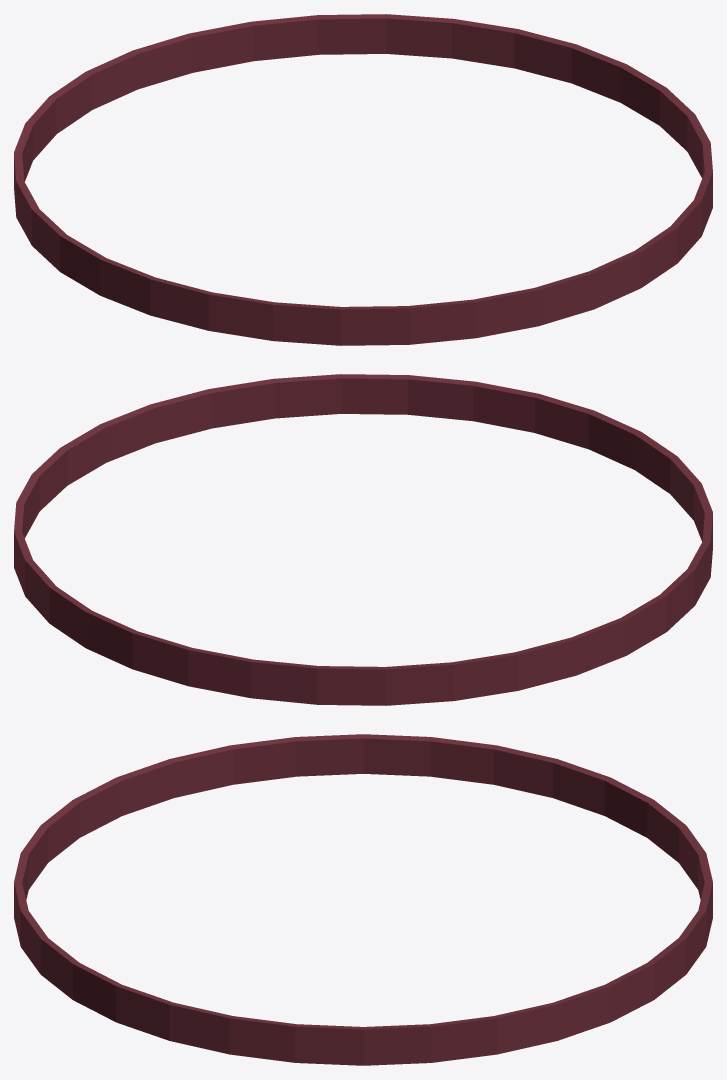
The model's file is bossWave.obj.
3 views of the same model, one above another, from view 1: azimuth 30°, elevation 25°; view 2: azimuth 150°, elevation 25°; view 3: azimuth 270°, elevation 25° (orthographic).
Parts seen in each view (by area): view 1: 円; view 2: 円; view 3: 円.
Part boxes in pixels (x1,y1,x2,y2): 円: (14,14,712,345); 円: (14,374,712,705); 円: (14,734,712,1065).
Bounding box in the file's own units: 2.05 × 0.117 × 2.05.
Materials: 1 (1 with a texture image).
